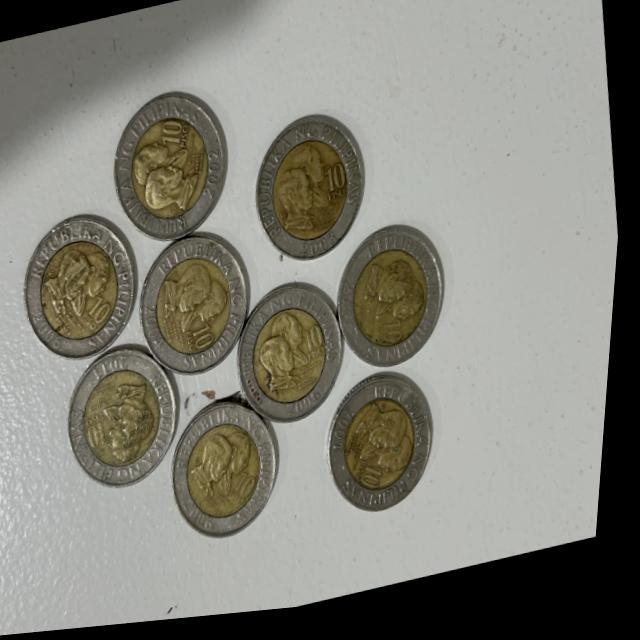10_Old_Front: (353, 263, 437, 364)
